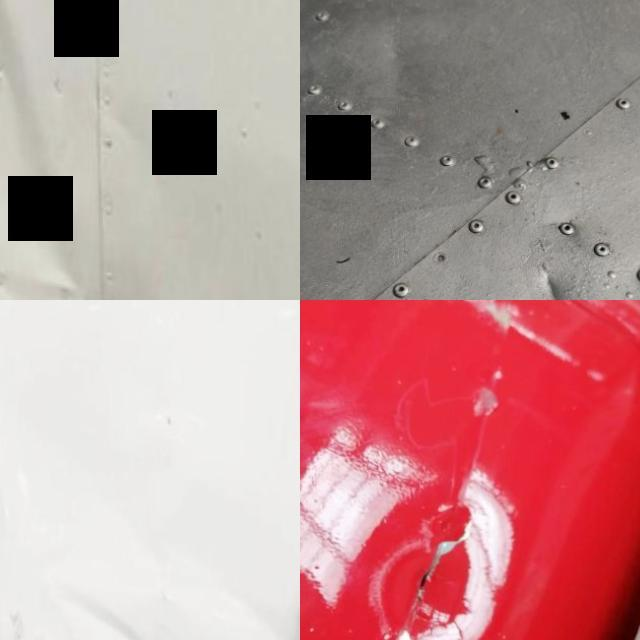Crack: (362, 448, 509, 640)
Dent: (0, 0, 139, 300), (46, 571, 157, 640), (508, 236, 608, 300), (221, 557, 293, 640)
